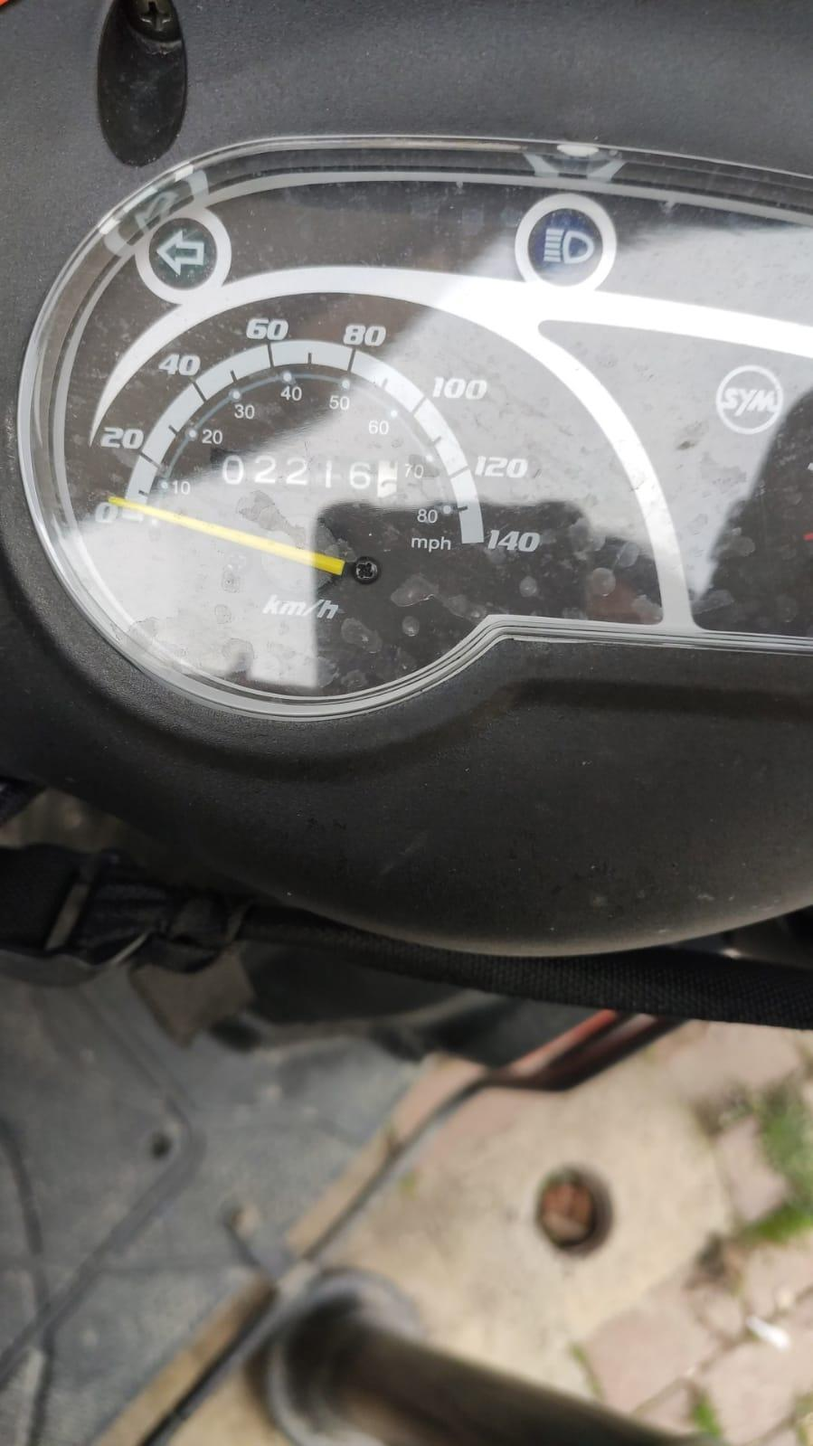0: (221, 450, 245, 485)
1: (320, 455, 334, 489)
2: (252, 450, 278, 486), (284, 453, 309, 487), (378, 476, 400, 502)
6: (347, 457, 374, 490)
odometer: (208, 446, 404, 503)
